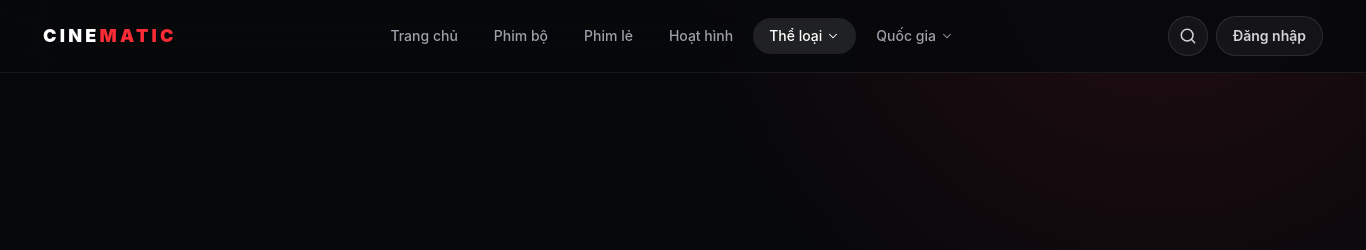
Test: HeaderNavigation taxonomy menus › opens one desktop dropdown at a time and encodes taxonomy links
What coordinates should you click on to do the following:
click the button "Thể loại"
I would click on:
 (805, 36)
Its box is [753,18,856,54].
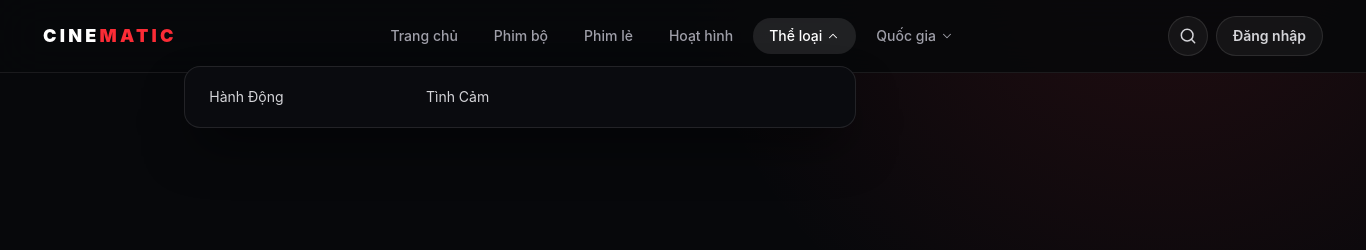
What coordinates should you click on to do the following:
click the button "Quốc gia"
I would click on:
 (915, 36)
Its box is [860,18,970,54].
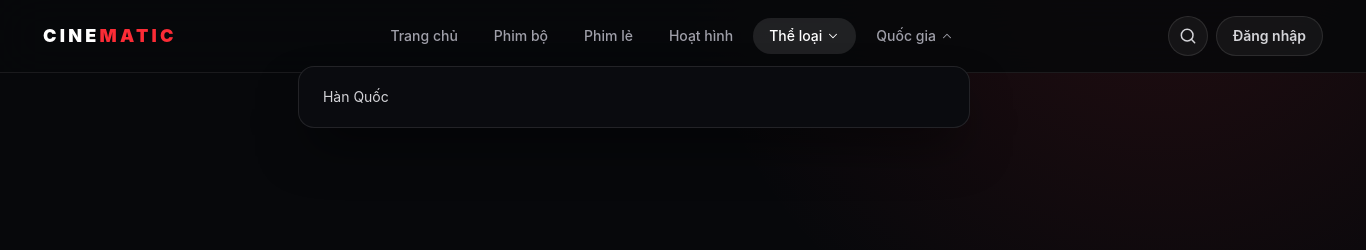
Expected: the link "Hành Động" is gone
